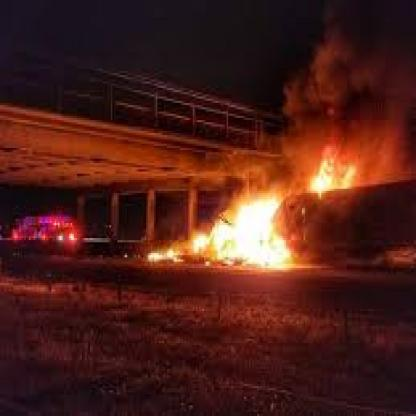fire: (148, 27, 416, 264)
